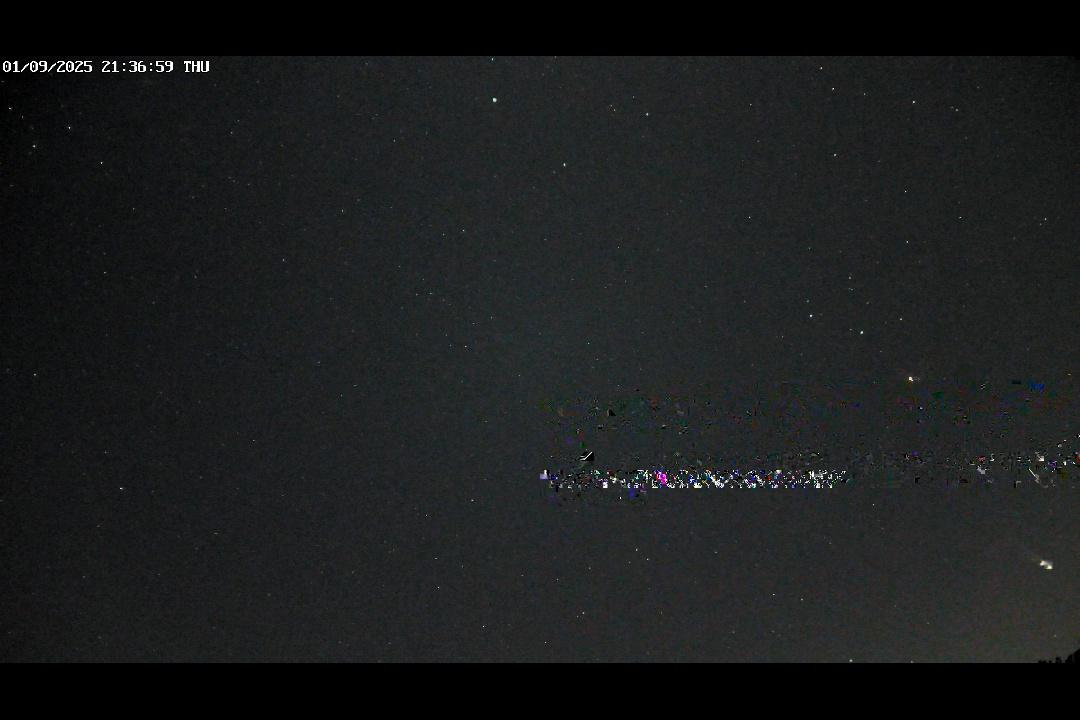Plane: (1009, 537, 1056, 591)
